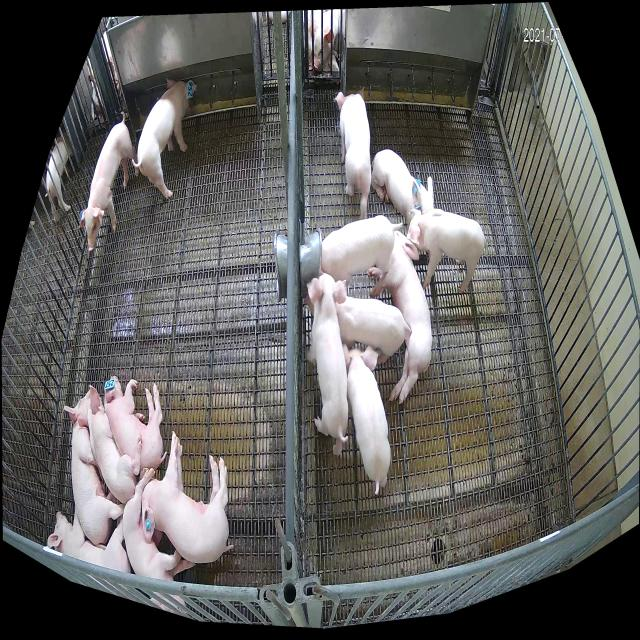pig: (142, 431, 234, 564), (367, 231, 432, 405), (123, 466, 196, 617), (62, 387, 125, 547), (78, 111, 139, 252), (305, 274, 349, 455), (76, 384, 142, 504), (132, 78, 197, 199), (342, 343, 391, 496), (407, 209, 486, 295), (47, 508, 130, 574), (104, 377, 164, 468), (336, 296, 411, 365), (371, 148, 434, 230), (321, 216, 400, 281), (334, 86, 372, 221)
